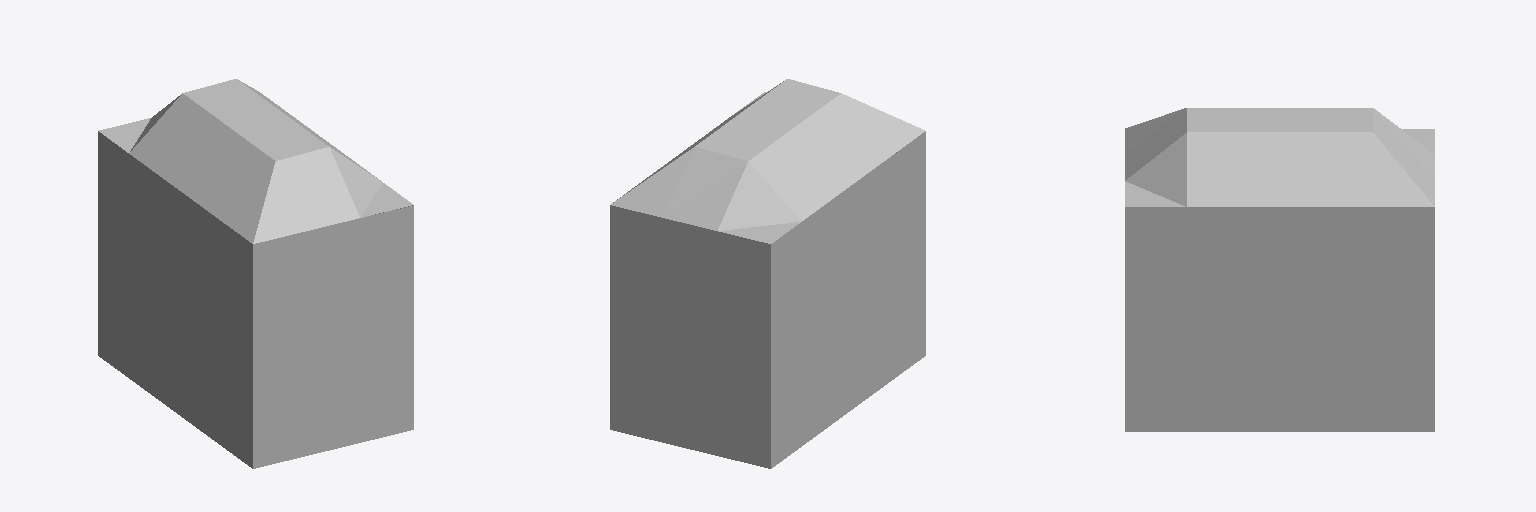
File: woodhouse.obj
3 renders of one model, left to right at view 1: azimuth 30°, elevation 25°; view 2: azimuth 150°, elevation 25°; view 3: azimuth 270°, elevation 25°, orthographic.
Parts seen in each view (by area): view 1: Cube; view 2: Cube; view 3: Cube.
Boxes of the visible parts, x1=… form: Cube: x1=98, y1=79, x2=413, y2=468; Cube: x1=610, y1=79, x2=925, y2=468; Cube: x1=1125, y1=108, x2=1434, y2=431.
Size of the model in its own units: 1.5 by 2.43 by 2.5.